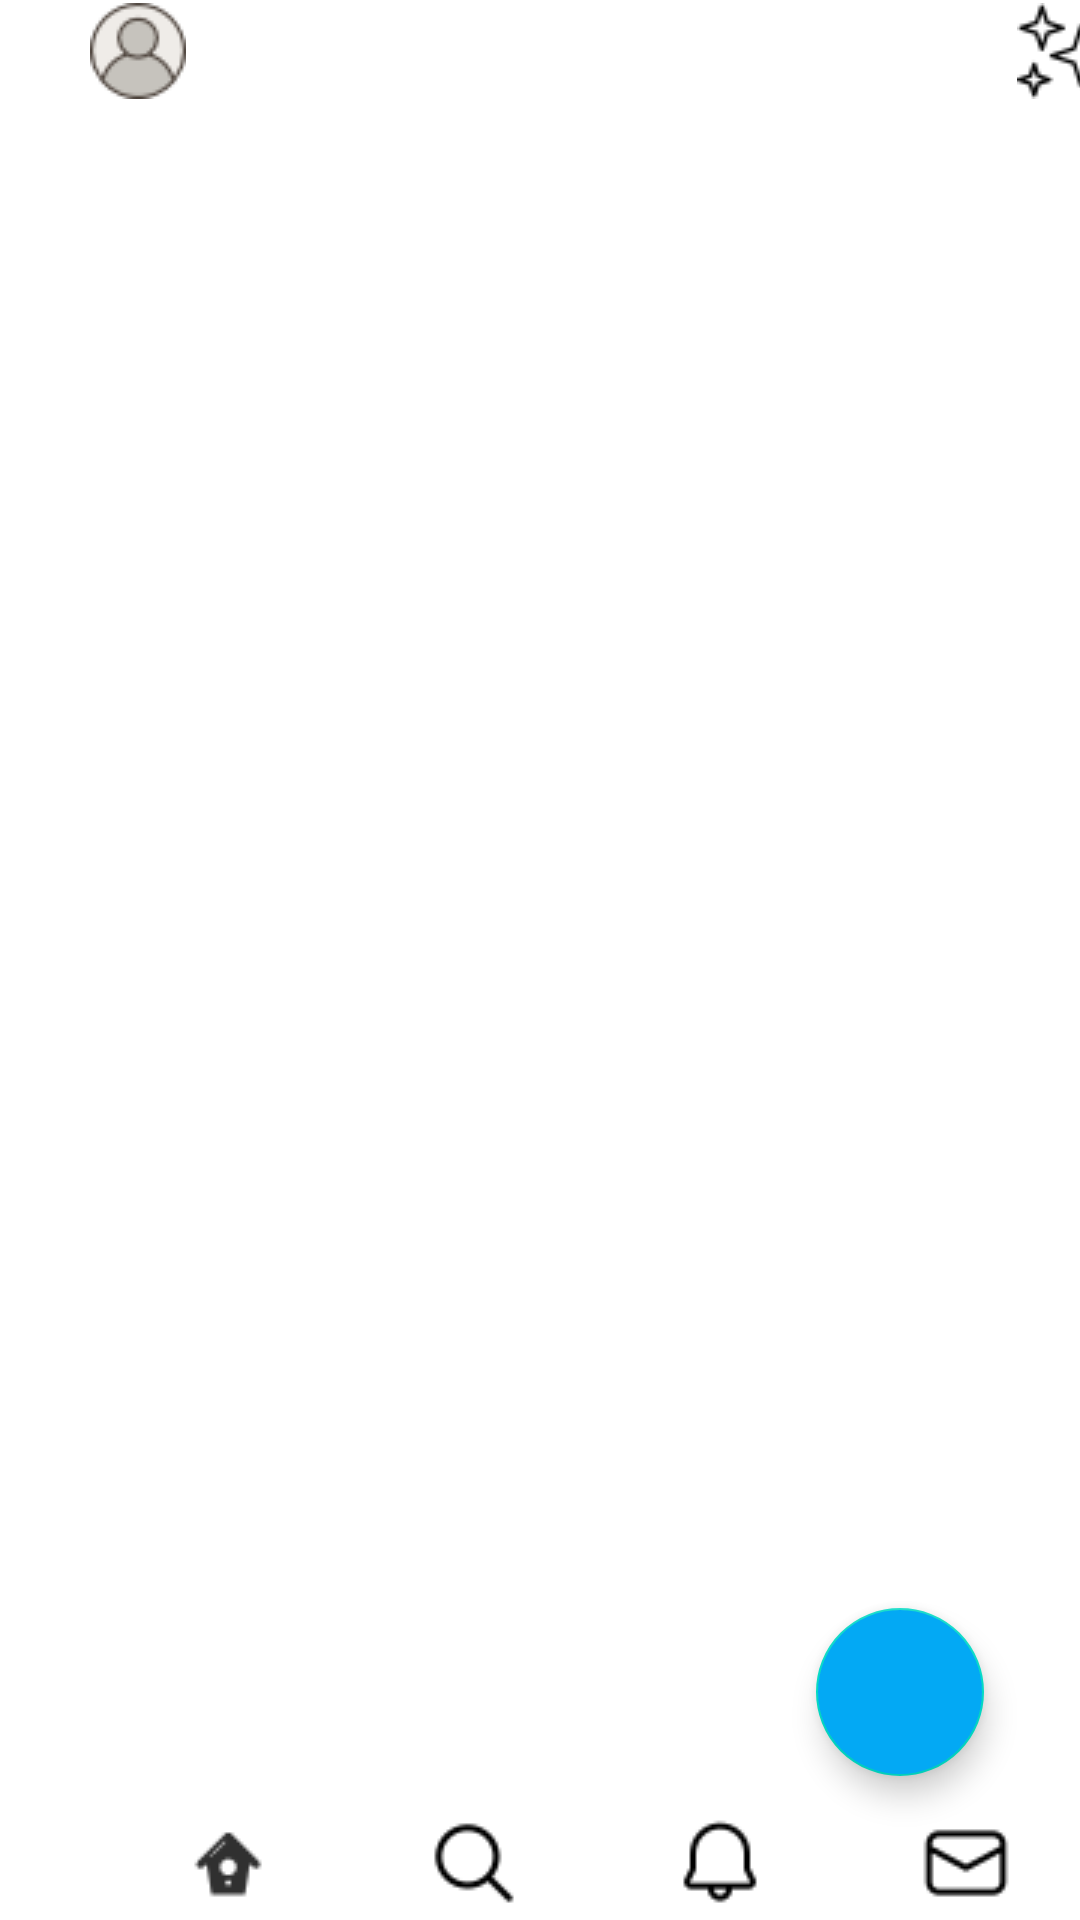

Named icons in this screenshot (1080 x 1920) and their centers, (x=x, y=y):
homeicon: (x=228, y=1864)
messageicon: (x=966, y=1863)
notificationicon: (x=720, y=1861)
searchicon: (x=474, y=1863)
usericon: (x=138, y=51)
